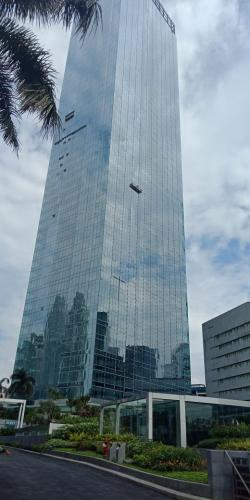Sky Building: (22, 1, 202, 418)
